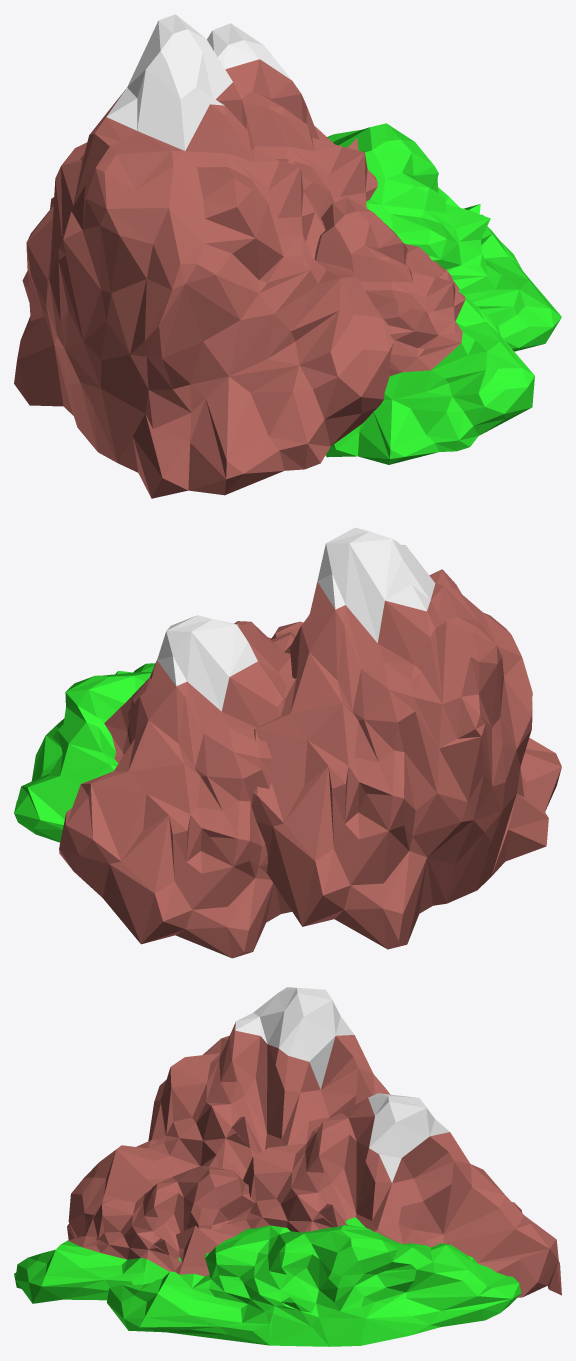
File: 2135227c-06d0-449d-ace4-f9d09b4e0aea.glb
3 views of the same model, one above another, from view 1: azimuth 30°, elevation 25°; view 2: azimuth 150°, elevation 25°; view 3: azimuth 270°, elevation 25° (orthographic). The views are drawn at different scales.
Visible parts, largest first — view 1: Sphere008, Sphere007, Sphere005, Sphere006; view 2: Sphere008, Sphere006, Sphere005; view 3: Sphere005, Sphere006, Sphere008, Sphere007.
Boxes of the visible parts, box(x1,y1,x2,y2) form: Sphere008: box(14, 14, 393, 498); Sphere007: box(314, 197, 534, 464); Sphere005: box(327, 123, 561, 351); Sphere006: box(207, 23, 459, 290); Sphere008: box(251, 527, 561, 949); Sphere006: box(59, 615, 295, 958); Sphere005: box(14, 663, 155, 842); Sphere005: box(107, 1217, 521, 1346); Sphere006: box(175, 1093, 561, 1297); Sphere008: box(67, 987, 390, 1239); Sphere007: box(14, 1166, 255, 1303).
Size of the model in its own units: 164170 by 138129 by 221236.
